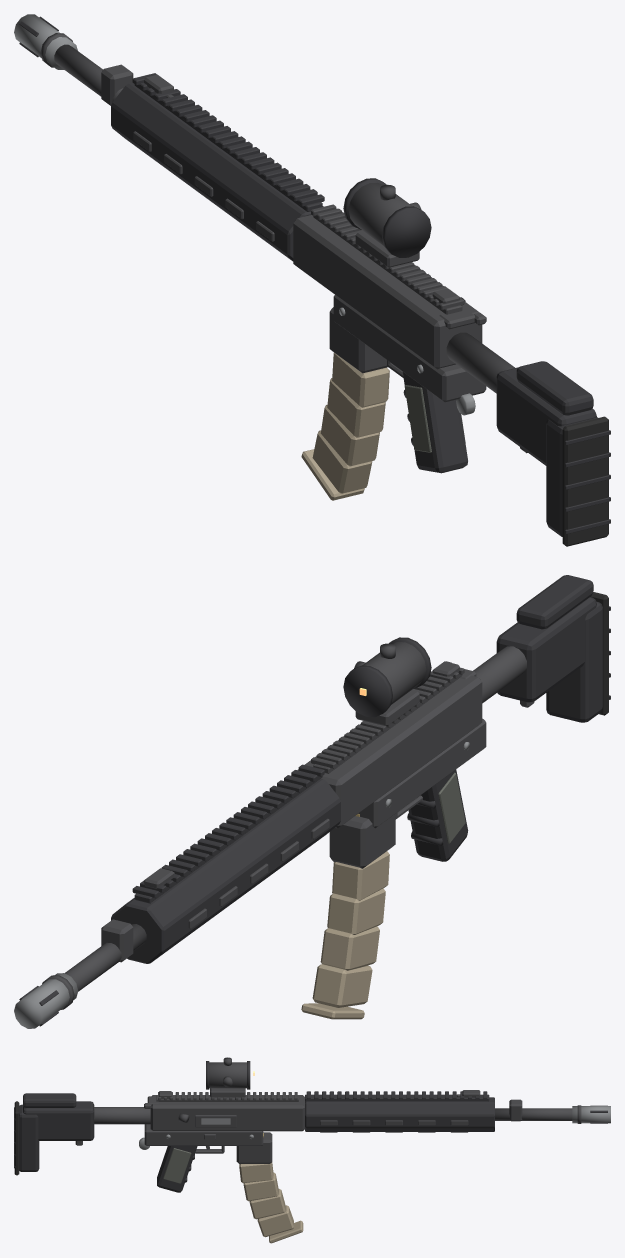
The model's file is rifle.glb.
3 views of the same model, one above another, from view 1: azimuth 30°, elevation 25°; view 2: azimuth 150°, elevation 25°; view 3: azimuth 270°, elevation 25° (orthographic). The views are drawn at different scales.
Visible parts, largest first — view 1: Rifle; view 2: Rifle; view 3: Rifle.
Boxes of the visible parts, x1,y1,x2,y2 form: Rifle: [14, 14, 610, 546]; Rifle: [14, 575, 610, 1028]; Rifle: [14, 1057, 610, 1243].
Bounding box in the file's own units: 0.0702 × 0.3352 × 1.01.
